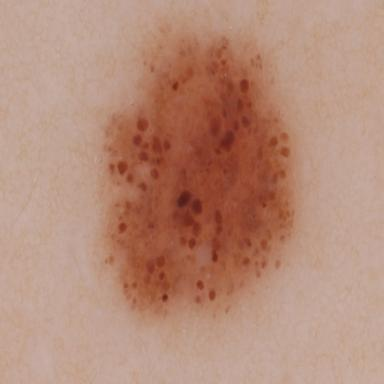nevus: (103, 24, 294, 318)
